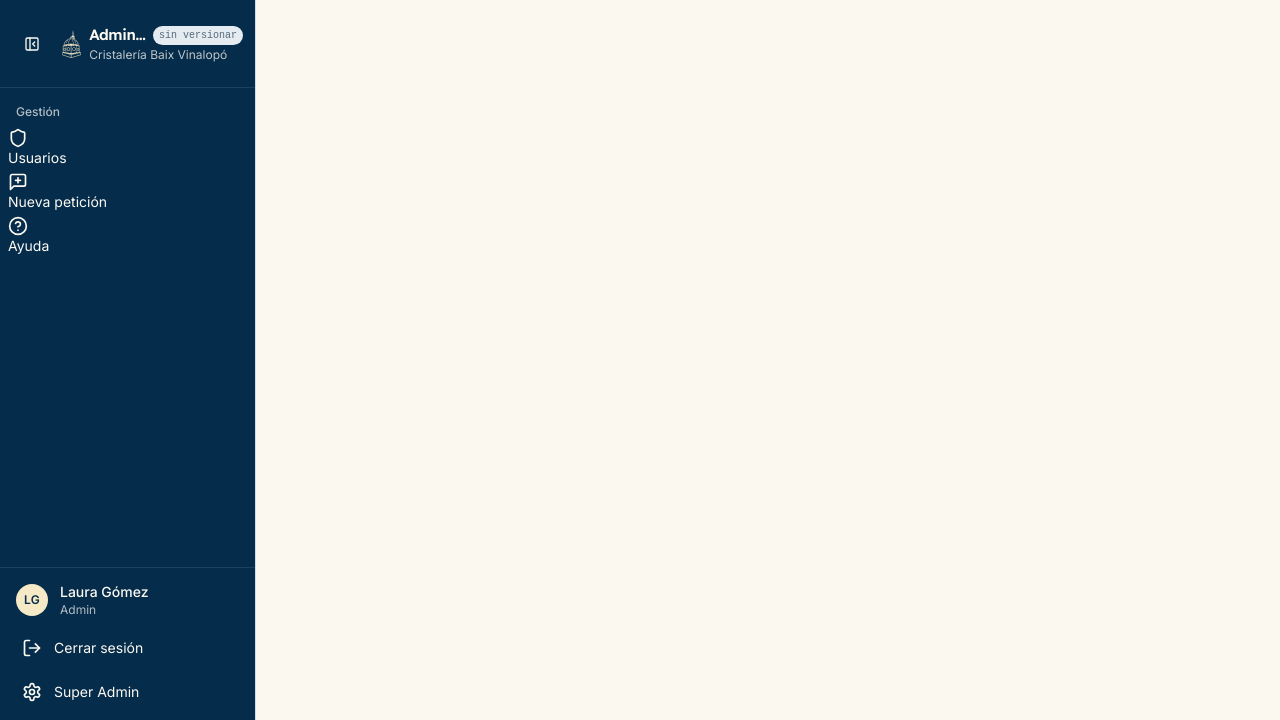
pie del menú admin › abre «Mi cuenta» con sus datos, sus secciones y el cambio de contraseña
Click the button with test id "boton-mi-cuenta": (128, 600) [8,576,247,624]
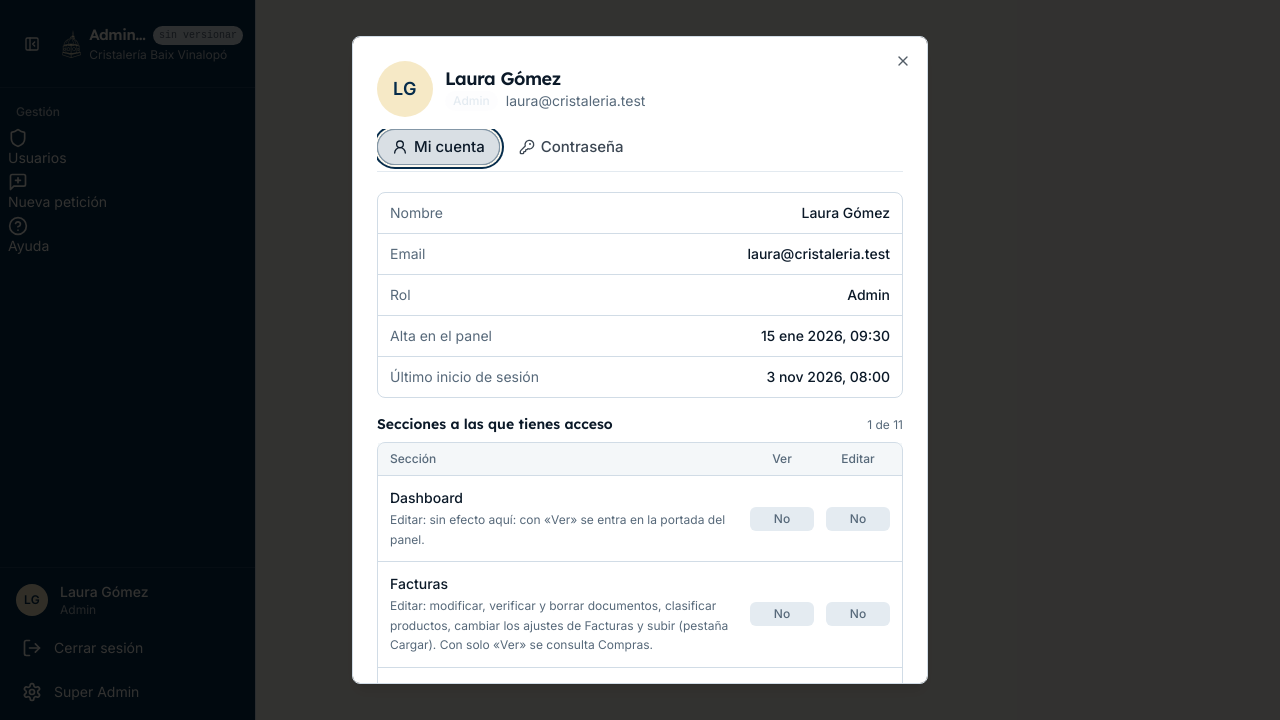
Expected: the text "laura@cristaleria.test" in the row of "Email" is shown, [747,245,890,262]
Expected: the text "Admin" in the row of "Rol" is shown, [847,286,890,303]
Expected: the text "Último inicio de sesión" is shown, [390,367,539,387]
Press the mouse on the tab "Contraseña": (571, 147) [504,129,639,165]
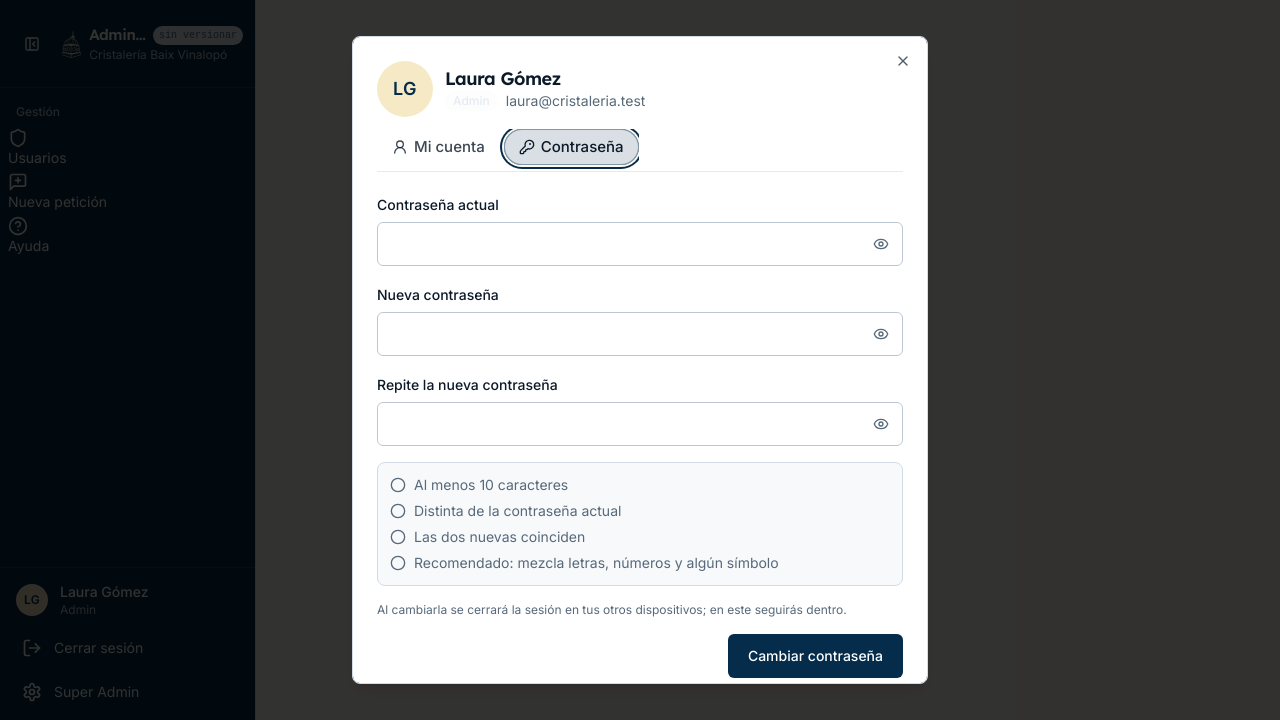
Expected: the password field labelled "Contraseña actual" is shown, [377,222,903,266]
Expected: the password field labelled "Nueva contraseña" is shown, [377,312,903,356]
